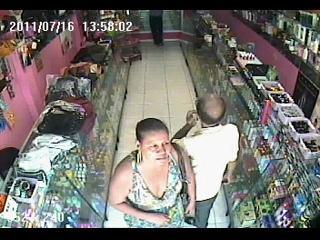Normal: (105, 118, 196, 227), (170, 92, 240, 228), (149, 10, 164, 46)
